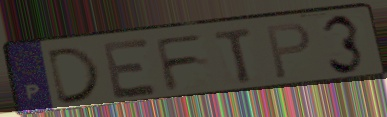3: (319, 13, 369, 76)
D: (45, 44, 105, 107)
E: (99, 36, 161, 102)
F: (152, 31, 207, 94)
P: (264, 20, 314, 82)
T: (212, 25, 257, 87)
